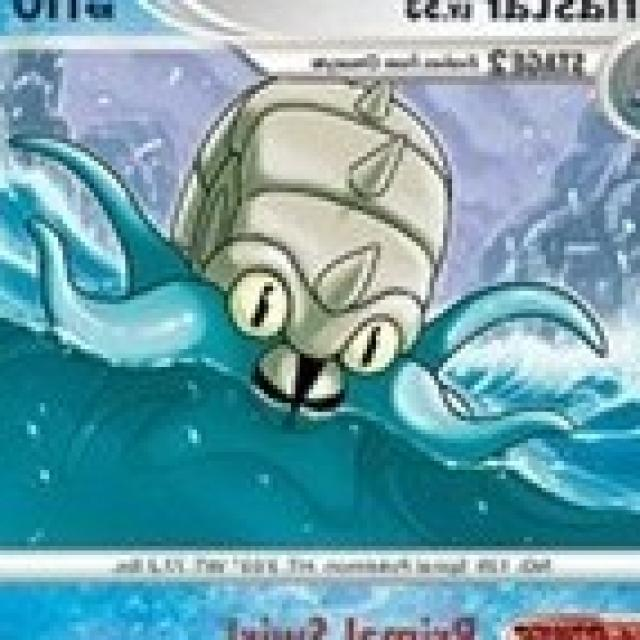Omastar: (108, 76, 503, 447)
